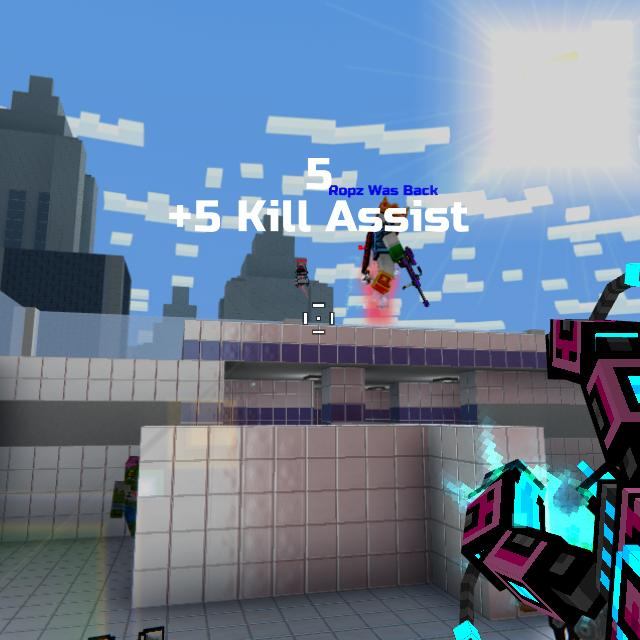Enemy: (368, 269, 395, 311)
